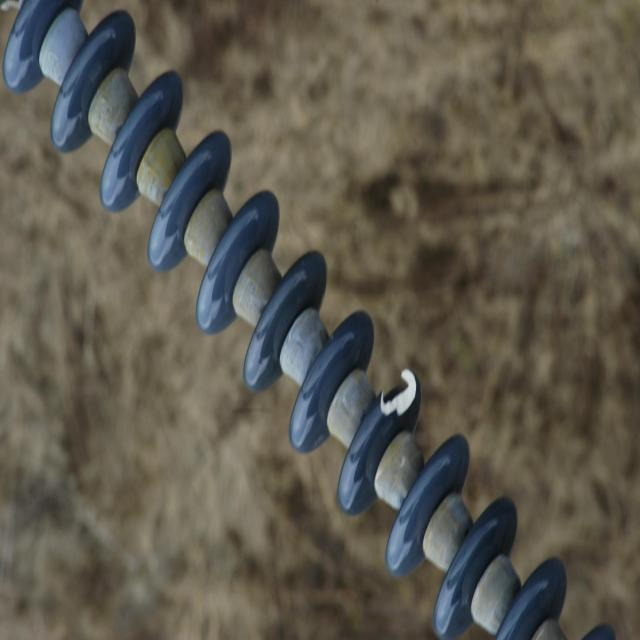broken: (378, 366, 418, 421)
insulator: (1, 0, 619, 638)
